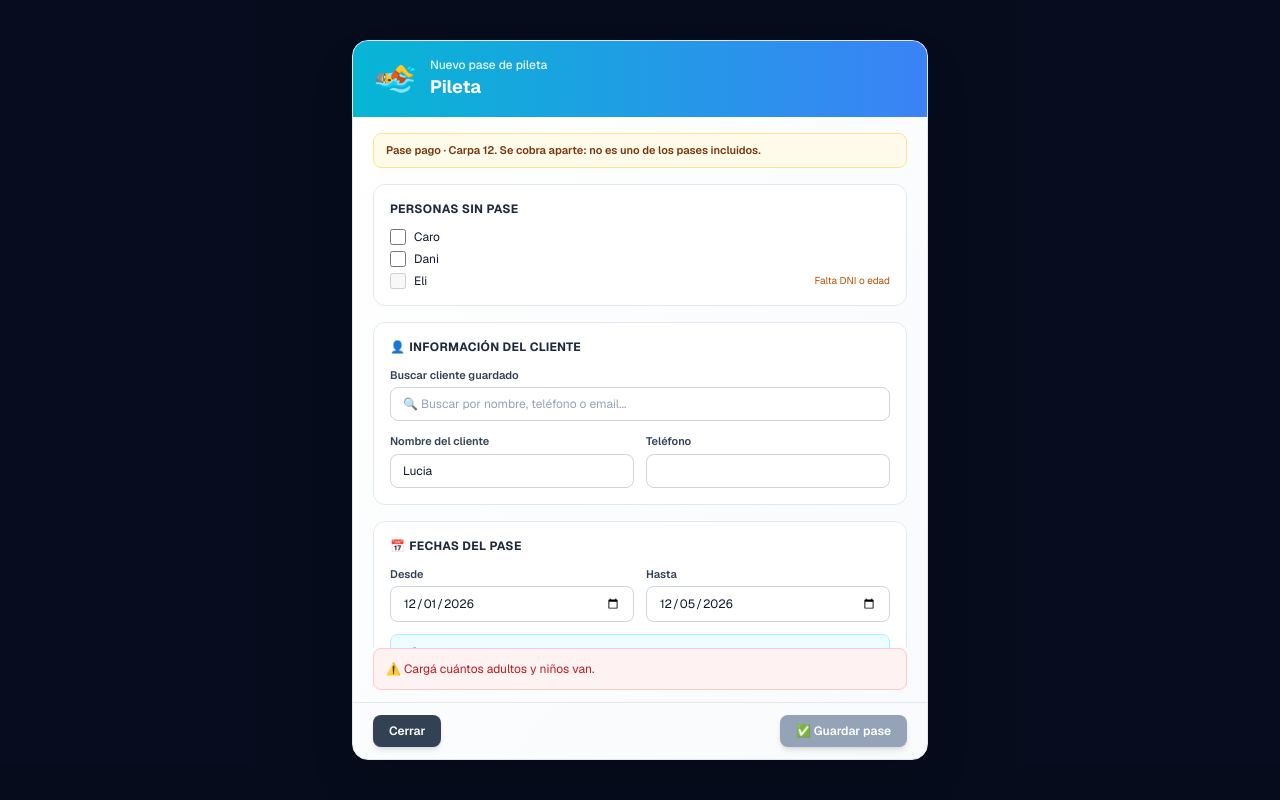
Test: vender pase de pileta desde la carpa › elegir personas precarga adultos y menores
This screenshot has width=1280, height=800.
Click the checkbox named "Vender pase a Caro": {"x": 398, "y": 236} [390,228,406,244]
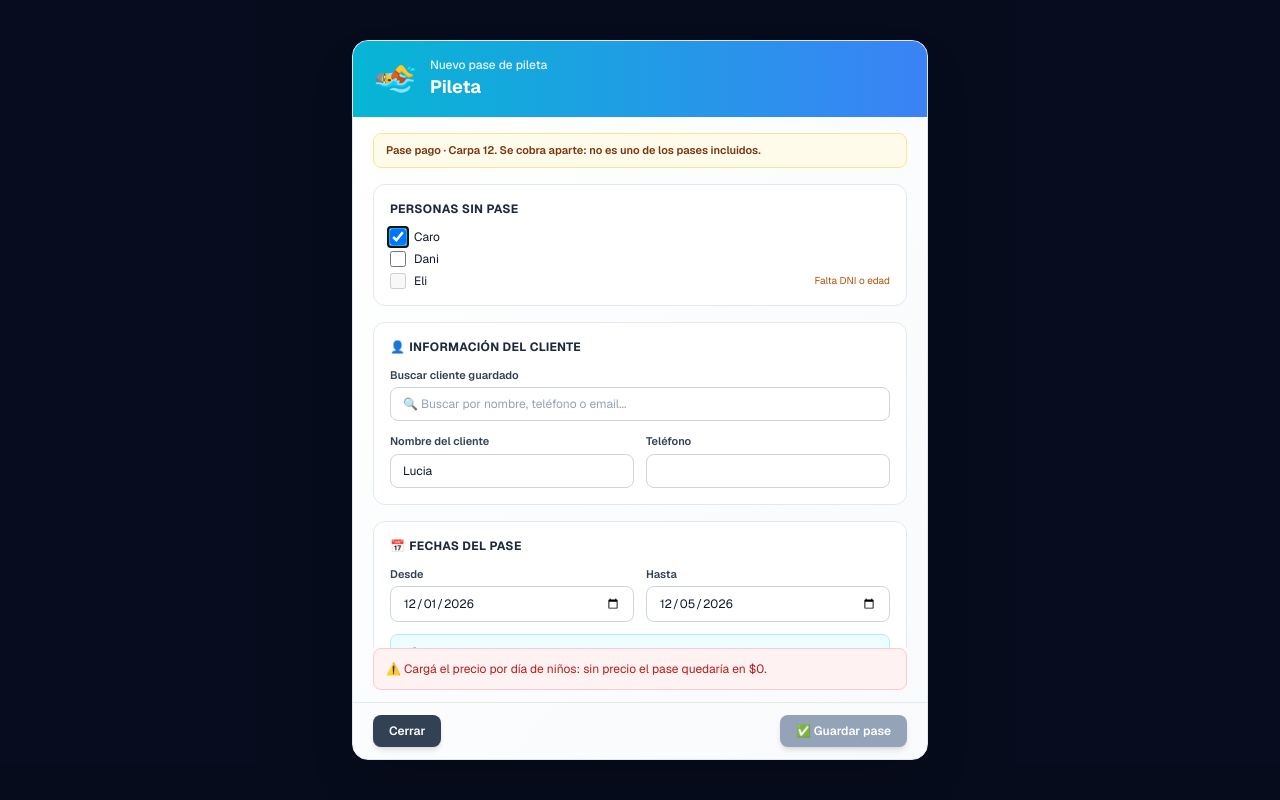
Click the checkbox named "Vender pase a Dani": {"x": 398, "y": 258} [390,250,406,266]
(page scrolled)
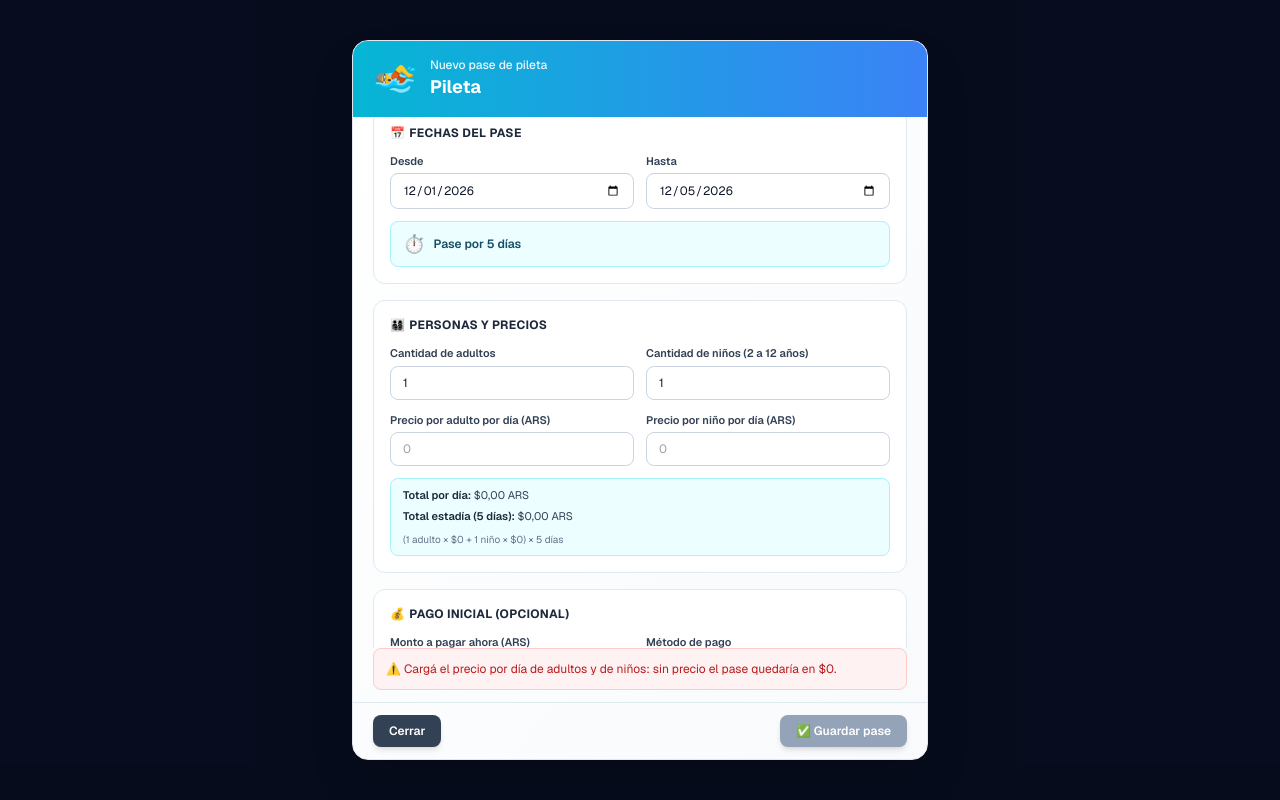
Check: the number field labelled "Cantidad de adultos" holds "1", box [390,366,634,400]
Check: the number field labelled "Cantidad de niños (2 a 12 años)" holds "1", box [646,366,890,400]
